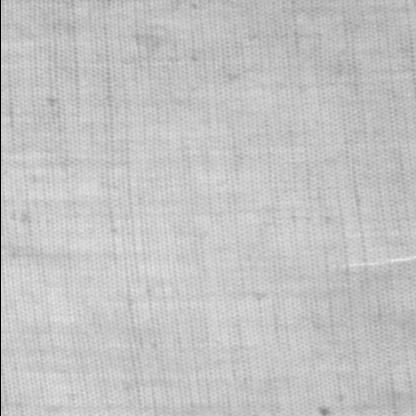hole: (331, 254, 415, 270)
